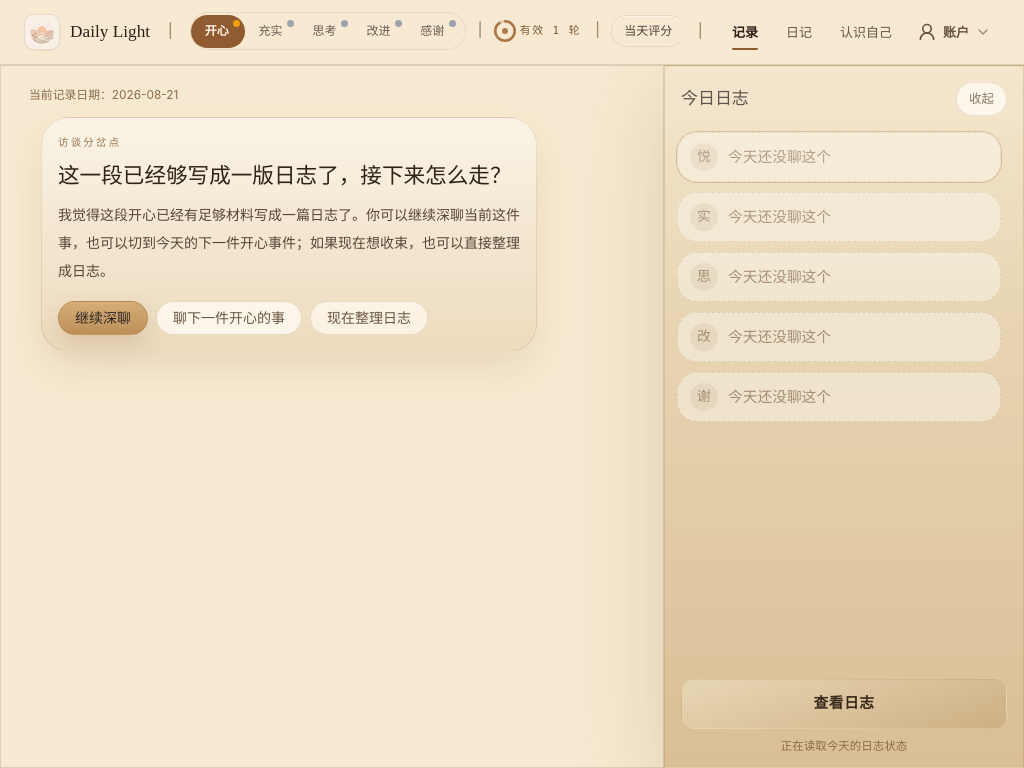
it: InterviewShell › shows choice actions and sends the continue action without creating an optimistic user bubble
Check: the button "聊下一件开心的事" is shown, box [156,301,302,335]
Check: the button "现在整理日志" is shown, box [310,301,428,335]
Click the button "继续深聊".
click(103, 318)  # box [58,301,148,335]
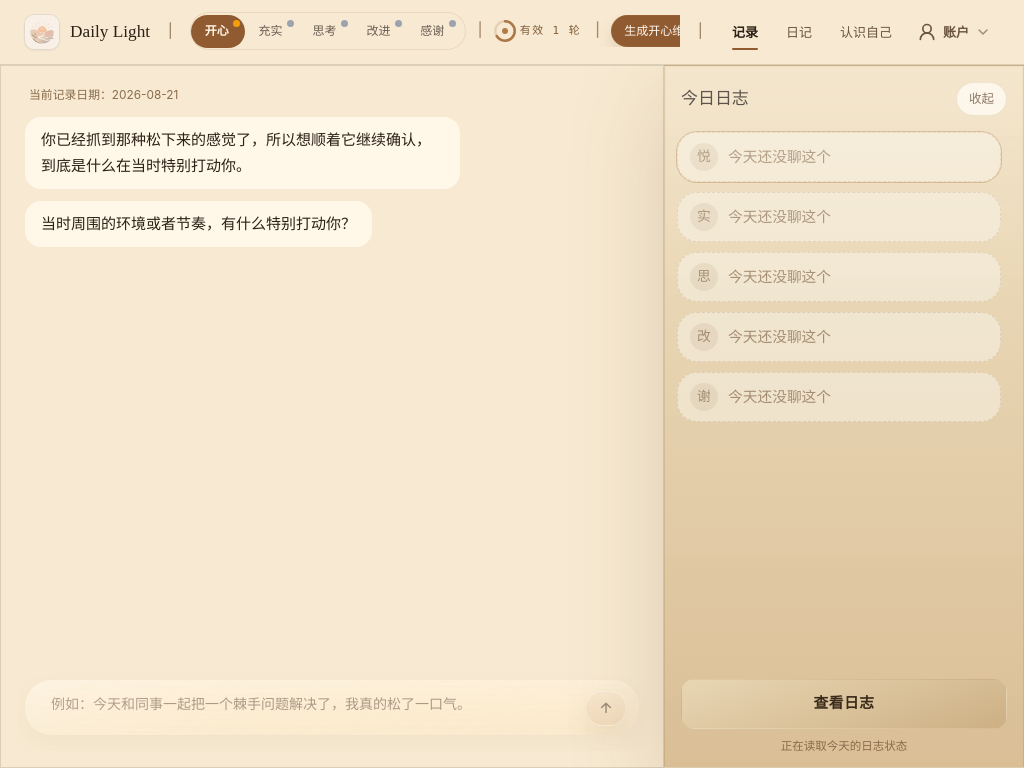
Check: the text "你已经抓到那种松下来的感觉了，所以想顺着它继续确认，到底是什么在当时特别打动你。" is shown, box [41,127,444,179]
Check: the text "当时周围的环境或者节奏，有什么特别打动你？" is shown, box [41,211,356,237]
Check: the text box is shown, box [35,686,629,722]
